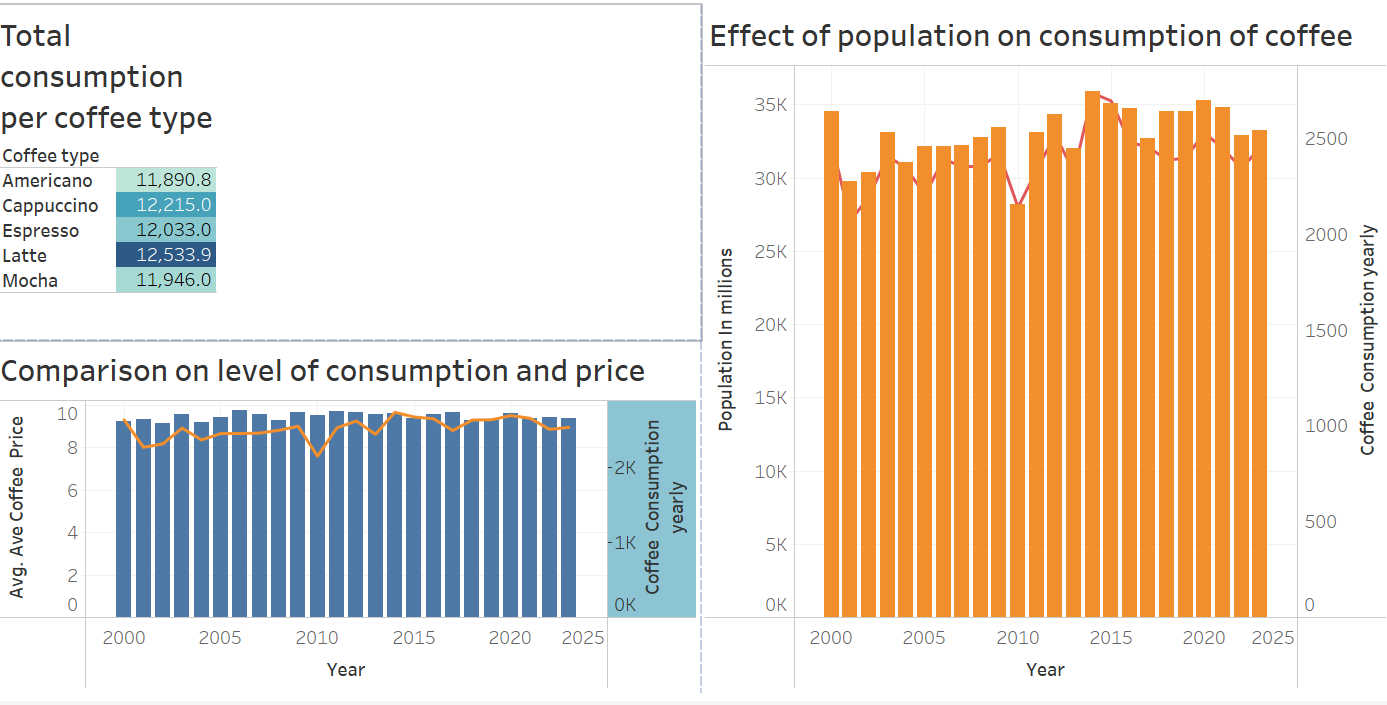

Layout of this report page (visuals, bound fields, positions):
{"tool":"tableau","page":{"name":"Dashboard 1","canvas":[1000,1000],"units":"permille","ordinal":0},"visuals":[{"type":"worksheet","title":"Sheet 5","mark":"Square","rows":["Coffee_type"],"box":[5.1,11.4,450.2,431.8]},{"type":"worksheet","title":"Sheet 4","mark":"Automatic","rows":["Population_In_millions","Coffee _Consumption_yearly"],"cols":["Year"],"box":[455.2,11.4,438.1,977.3]},{"type":"filter","title":"Sheet 5","param":"[federated.1249tv019vxmv41br2ob80gd92a5].[sum:Coffee _Consumption_yearly:qk]","box":[893.3,11.4,101.6,109.4]},{"type":"legend","title":"Sheet 5","param":"[federated.1249tv019vxmv41br2ob80gd92a5].[sum:Coffee _Consumption_yearly:qk]","box":[893.3,120.7,101.6,115]},{"type":"worksheet","title":"Sheet 3","mark":"Automatic","rows":["Ave_Coffee _Price","Coffee _Consumption_yearly"],"cols":["Year"],"box":[5.1,443.2,450.2,545.5]}]}

Visuals, with their boxes on the dashboard's canvas, which has no fixed pixel size, in thousandths of its width and height (x1, y1, x2, y2). These are canvas units, not pixel positions in the 1387x705 screenshot, which may show the page scaled, cropped or inside an application window:
"Sheet 5" worksheet (Square marks): rect(5, 11, 455, 443)
"Sheet 4" worksheet: rect(455, 11, 893, 989)
"Sheet 5" filter: rect(893, 11, 995, 121)
"Sheet 5" legend: rect(893, 121, 995, 236)
"Sheet 3" worksheet: rect(5, 443, 455, 989)
